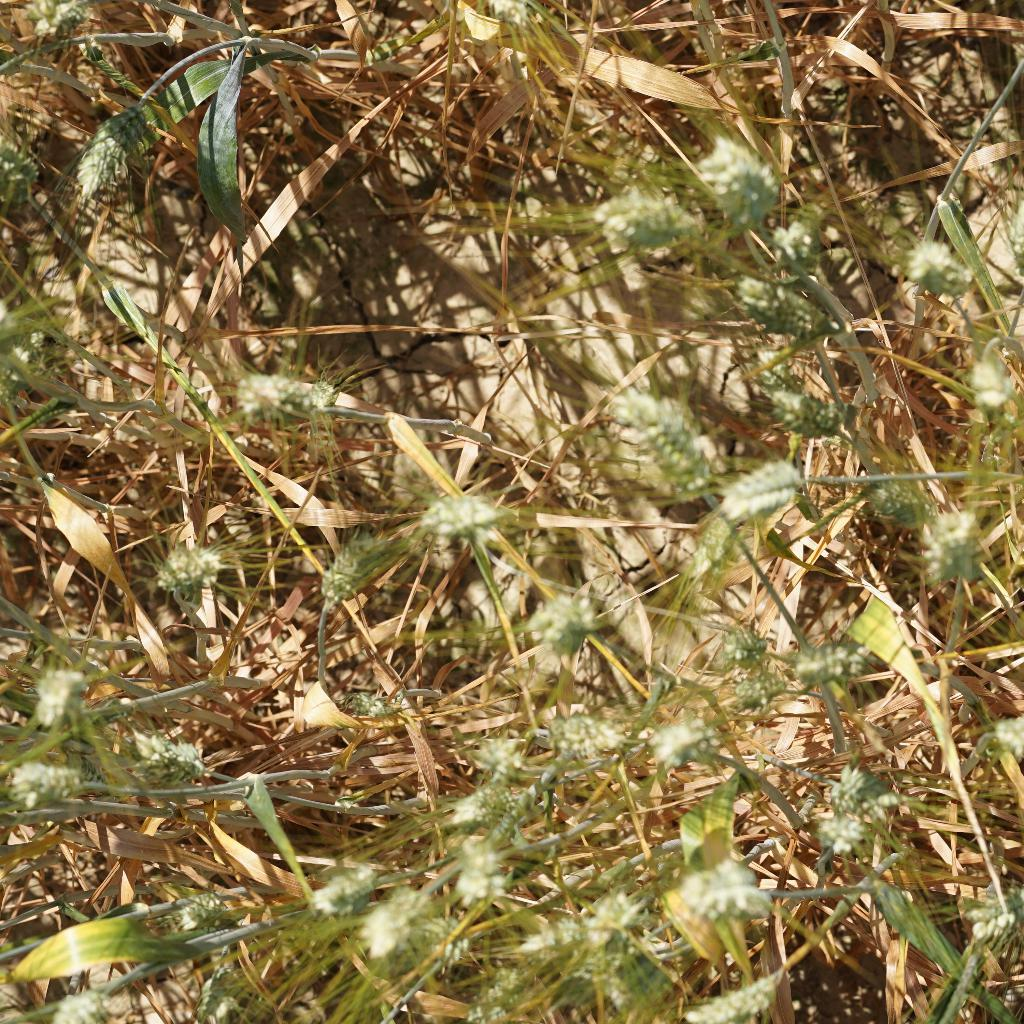0-0: (66, 78, 168, 215), (615, 380, 714, 485), (292, 524, 400, 619), (727, 258, 849, 340), (712, 445, 810, 533), (687, 134, 781, 224), (912, 500, 996, 591), (515, 591, 619, 661), (742, 365, 841, 436), (218, 357, 308, 433), (675, 858, 780, 923), (0, 748, 92, 822), (885, 224, 976, 298), (123, 731, 215, 803), (631, 698, 721, 770), (410, 479, 508, 545), (678, 965, 786, 1024), (531, 699, 630, 763), (149, 530, 230, 608), (851, 447, 931, 524), (949, 336, 1024, 418), (307, 851, 392, 922), (818, 755, 905, 822), (602, 186, 690, 251), (680, 505, 745, 591), (733, 337, 811, 407), (448, 832, 520, 907), (953, 881, 1024, 956), (588, 956, 666, 1024), (352, 888, 429, 953), (785, 624, 863, 688), (563, 884, 650, 940), (21, 662, 94, 728), (802, 804, 892, 856), (759, 197, 832, 260), (444, 776, 523, 834), (165, 885, 238, 945), (331, 662, 402, 722), (470, 959, 534, 1024), (193, 960, 256, 1024), (19, 0, 108, 44), (447, 713, 516, 769), (707, 616, 774, 672), (509, 915, 591, 957), (0, 120, 41, 199), (41, 978, 111, 1024), (295, 363, 339, 429), (53, 749, 116, 794), (724, 662, 781, 706)
